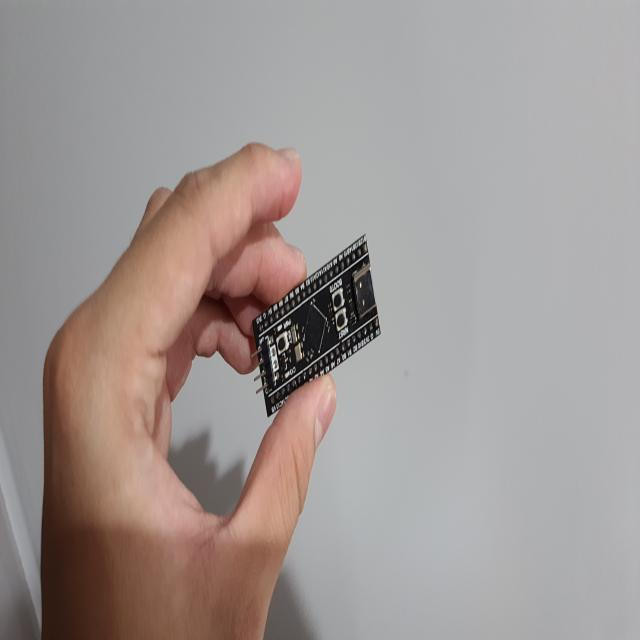STM32: (254, 236, 381, 417)
